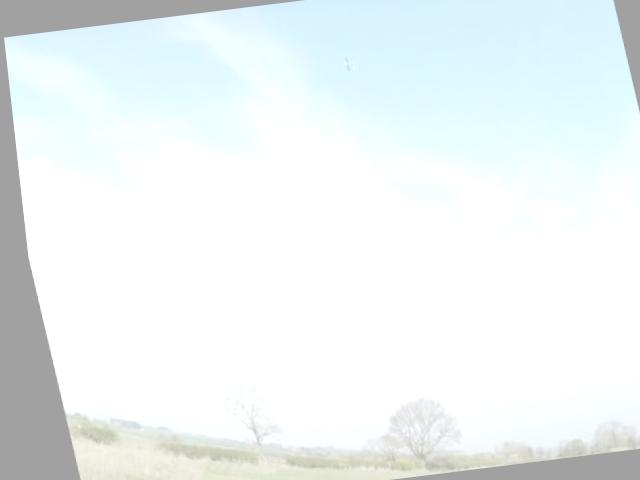iha: (331, 54, 361, 75)
